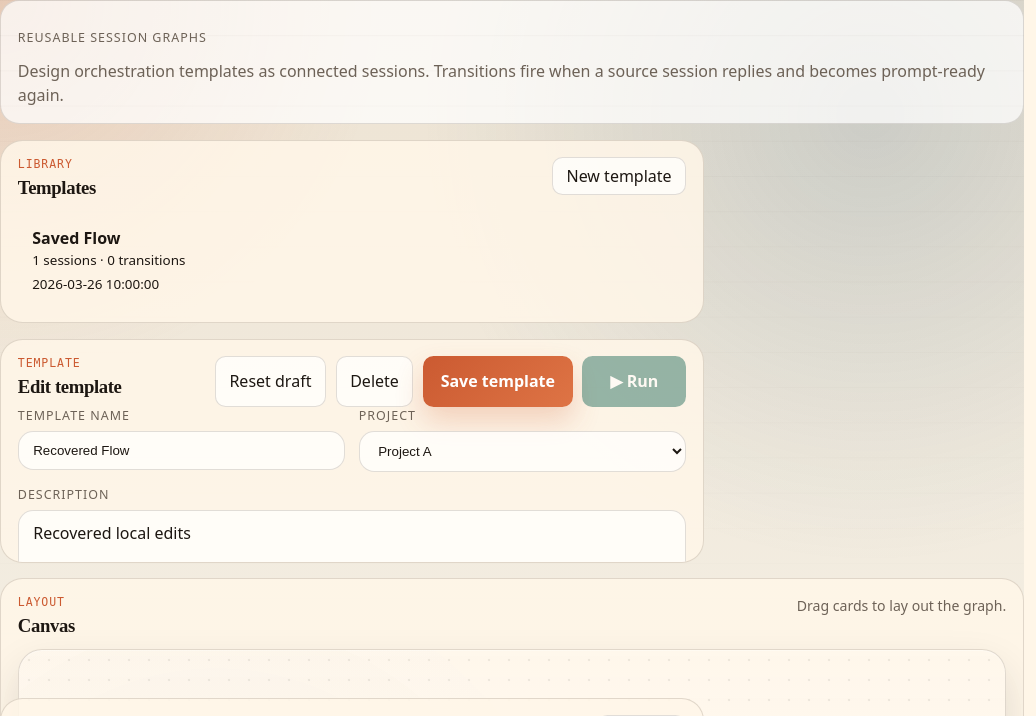
Test case: OrchestratorTemplatesPanel › keeps restored template edits dirty against the saved template after reload
The width and height of the screenshot is (1036, 716).
Check: the field showing "Recovered Flow" is shown, box [18,431,345,470]
Check: the button "Save template" is enabled, box [423,356,573,407]
Click the button "Reset draft".
click(270, 381)  # box [215,356,326,407]
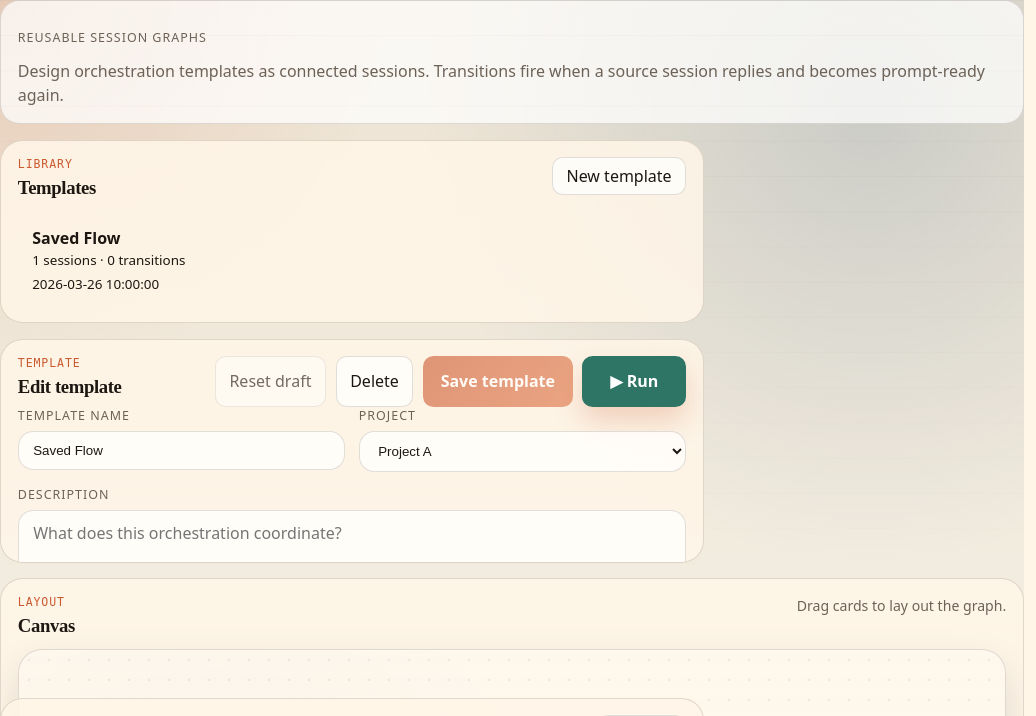
Check: the field labelled "Template name" holds "Saved Flow", box [18,431,345,470]
Check: the button "Save template" is disabled, box [423,356,573,407]
Check: the button "▶ Run" is enabled, box [582,356,686,407]
